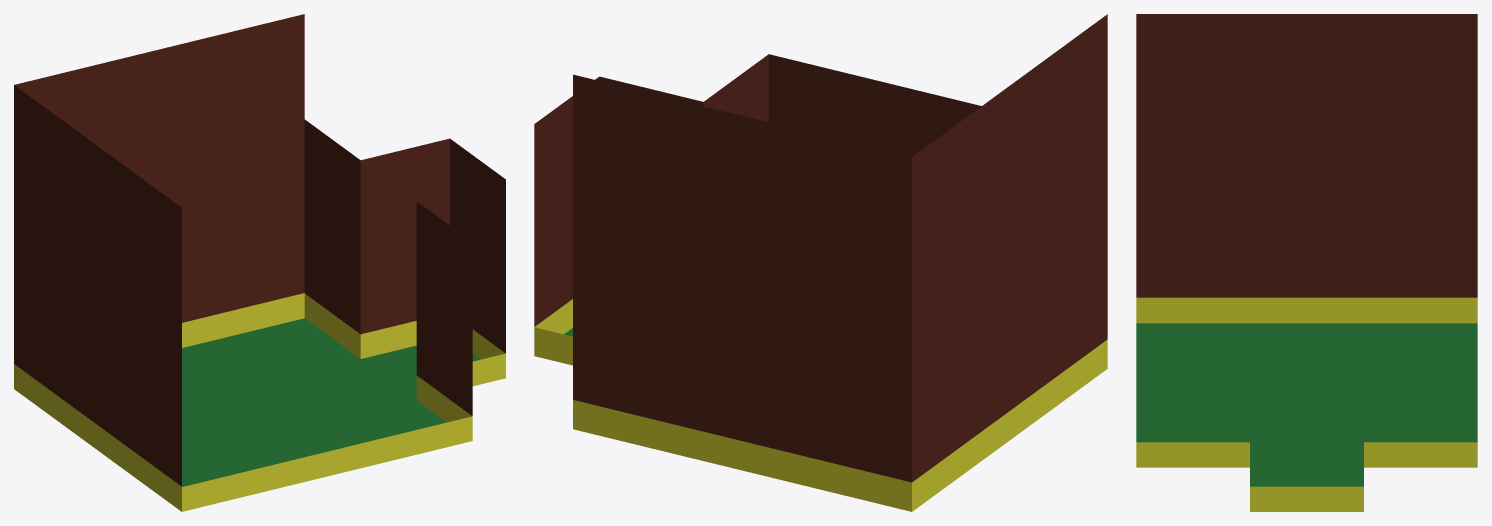
Rendered from left end room.dae.
The picture shows the model from 3 angles, left to right: view 1: azimuth 30°, elevation 25°; view 2: azimuth 150°, elevation 25°; view 3: azimuth 270°, elevation 25°; orthographic projection. The views are drawn at different scales.
Visible parts, largest first — view 1: Cube.004, Cube.005; view 2: Cube.004, Cube.005; view 3: Cube.004, Cube.005.
Part boxes in pixels (x1,y1,x2,y2): Cube.004: [14, 14, 479, 511]; Cube.005: [182, 119, 505, 511]; Cube.004: [564, 14, 1107, 511]; Cube.005: [534, 54, 981, 365]; Cube.004: [1136, 14, 1477, 486]; Cube.005: [1136, 442, 1477, 511].
Bounding box in the file's own units: 2.61 × 2 × 2.
